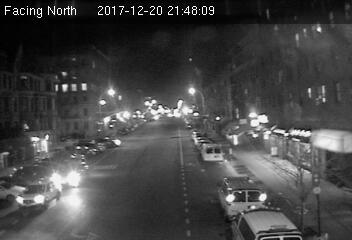car: (15, 181, 63, 210), (53, 160, 88, 187)
police: (230, 204, 308, 240), (215, 176, 272, 211)
truck: (201, 142, 224, 164)
